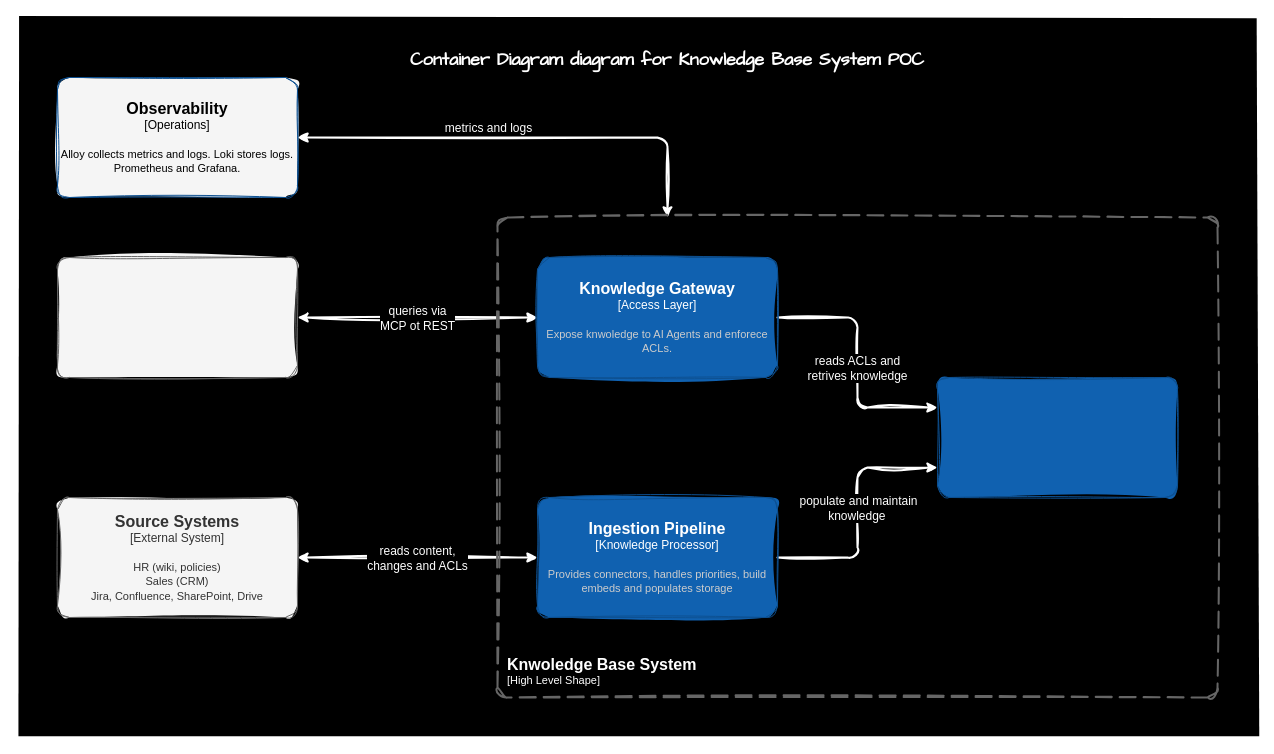
Image size: 1274x754. Some labels were removed from this diagram. Here are the shapes that lost their labels. From the top down, the box of each, then its label:
(56, 256, 298, 378): AI Agents [External System] HR Chatbot Assistent Roadmap Agent
(936, 376, 1178, 498): Knowledge Store [Storage Layer] Stores knowledge, ACL policies and metadata.
